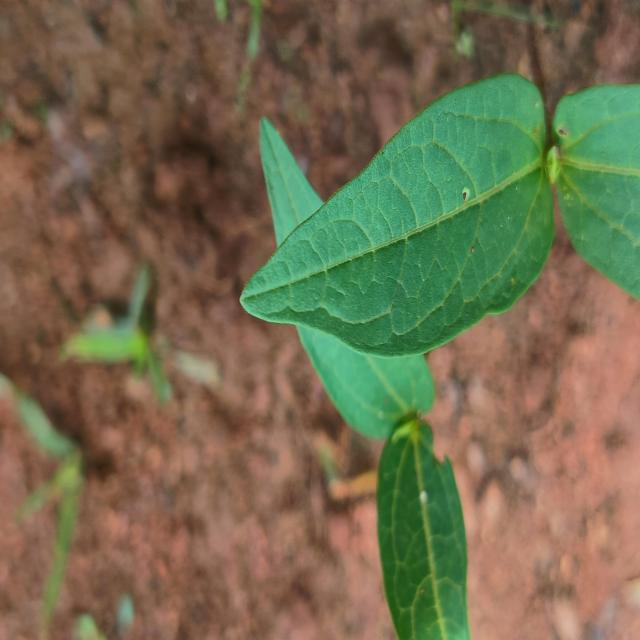Black gram_healthy: (238, 71, 556, 358), (260, 115, 440, 443)
